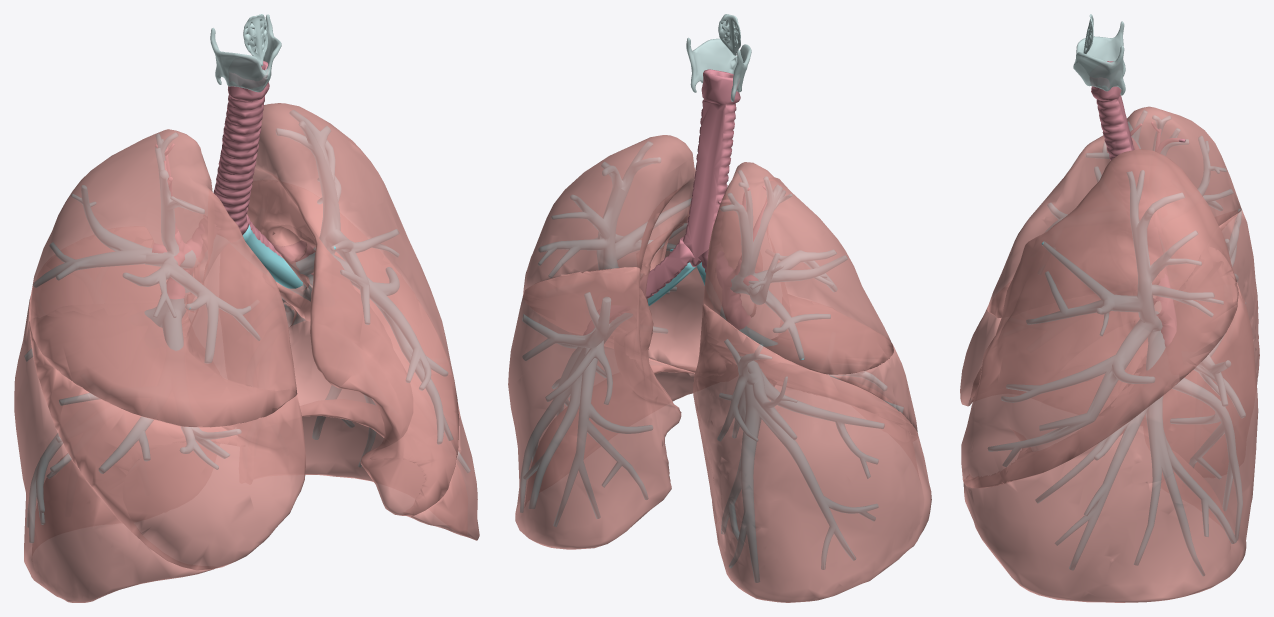
Rendered from respiratory.glb.
The picture shows the model from 3 angles, left to right: view 1: azimuth 30°, elevation 25°; view 2: azimuth 150°, elevation 25°; view 3: azimuth 270°, elevation 25°; orthographic projection. The views are drawn at different scales.
Visible parts, largest first — view 1: Right lung portion 00974 | anatomy_00974, Left lung portion 00973 | anatomy_00973, Right lung portion 00972 | anatomy_00972, Right lung portion 00970 | anatomy_00970, Left lung portion 00975 | anatomy_00975, Bronchi component 00247 | anatomy_00247, Bronchi component 00248 | anatomy_00248, Mucosa component 00993 | anatomy_00993, Cartilage component 00250 | anatomy_00250, Mucosa component 01001 | anatomy_01001, Cartilage component 00249 | anatomy_00249, Mucosa component 00999 | anatomy_00999; view 2: Right lung portion 00970 | anatomy_00970, Left lung portion 00975 | anatomy_00975, Right lung portion 00974 | anatomy_00974, Left lung portion 00973 | anatomy_00973, Bronchi component 00247 | anatomy_00247, Bronchi component 00248 | anatomy_00248, Right lung portion 00972 | anatomy_00972, Mucosa component 00993 | anatomy_00993, Cartilage component 00250 | anatomy_00250, Mucosa component 00999 | anatomy_00999, Mucosa component 01001 | anatomy_01001, Cartilage component 00249 | anatomy_00249; view 3: Left lung portion 00973 | anatomy_00973, Left lung portion 00975 | anatomy_00975, Bronchi component 00248 | anatomy_00248, Right lung portion 00974 | anatomy_00974, Right lung portion 00970 | anatomy_00970, Cartilage component 00250 | anatomy_00250, Bronchi component 00247 | anatomy_00247, Right lung portion 00972 | anatomy_00972, Mucosa component 00993 | anatomy_00993, Mucosa component 00999 | anatomy_00999.
Part boxes in pixels (x1=…): Right lung portion 00974 | anatomy_00974: x1=29, y1=129, x2=297, y2=427; Left lung portion 00973 | anatomy_00973: x1=247, y1=103, x2=459, y2=516; Right lung portion 00972 | anatomy_00972: x1=29, y1=308, x2=305, y2=570; Right lung portion 00970 | anatomy_00970: x1=14, y1=226, x2=244, y2=602; Left lung portion 00975 | anatomy_00975: x1=247, y1=180, x2=479, y2=540; Bronchi component 00247 | anatomy_00247: x1=24, y1=132, x2=259, y2=542; Bronchi component 00248 | anatomy_00248: x1=242, y1=110, x2=470, y2=472; Mucosa component 00993 | anatomy_00993: x1=213, y1=61, x2=269, y2=235; Cartilage component 00250 | anatomy_00250: x1=210, y1=14, x2=281, y2=92; Mucosa component 01001 | anatomy_01001: x1=152, y1=223, x2=204, y2=298; Cartilage component 00249 | anatomy_00249: x1=243, y1=14, x2=268, y2=66; Mucosa component 00999 | anatomy_00999: x1=246, y1=214, x2=314, y2=274; Right lung portion 00970 | anatomy_00970: x1=693, y1=304, x2=931, y2=602; Left lung portion 00975 | anatomy_00975: x1=508, y1=267, x2=694, y2=549; Right lung portion 00974 | anatomy_00974: x1=703, y1=162, x2=893, y2=374; Left lung portion 00973 | anatomy_00973: x1=523, y1=135, x2=704, y2=373; Bronchi component 00247 | anatomy_00247: x1=696, y1=170, x2=903, y2=582; Bronchi component 00248 | anatomy_00248: x1=520, y1=141, x2=696, y2=526; Right lung portion 00972 | anatomy_00972: x1=710, y1=294, x2=917, y2=440; Mucosa component 00993 | anatomy_00993: x1=683, y1=69, x2=740, y2=267; Cartilage component 00250 | anatomy_00250: x1=686, y1=37, x2=751, y2=101; Mucosa component 00999 | anatomy_00999: x1=583, y1=237, x2=694, y2=335; Mucosa component 01001 | anatomy_01001: x1=698, y1=249, x2=758, y2=329; Cartilage component 00249 | anatomy_00249: x1=718, y1=14, x2=740, y2=55; Left lung portion 00973 | anatomy_00973: x1=961, y1=149, x2=1238, y2=488; Left lung portion 00975 | anatomy_00975: x1=963, y1=247, x2=1258, y2=602; Bronchi component 00248 | anatomy_00248: x1=988, y1=170, x2=1245, y2=575; Right lung portion 00974 | anatomy_00974: x1=987, y1=106, x2=1241, y2=317; Right lung portion 00970 | anatomy_00970: x1=973, y1=209, x2=1259, y2=397; Cartilage component 00250 | anatomy_00250: x1=1073, y1=21, x2=1125, y2=95; Bronchi component 00247 | anatomy_00247: x1=1046, y1=110, x2=1245, y2=303; Right lung portion 00972 | anatomy_00972: x1=960, y1=282, x2=1010, y2=406; Mucosa component 00993 | anatomy_00993: x1=1090, y1=61, x2=1134, y2=160; Mucosa component 00999 | anatomy_00999: x1=1153, y1=274, x2=1176, y2=346.
Bounding box in the file's own units: 4.18 × 5.52 × 2.99.
